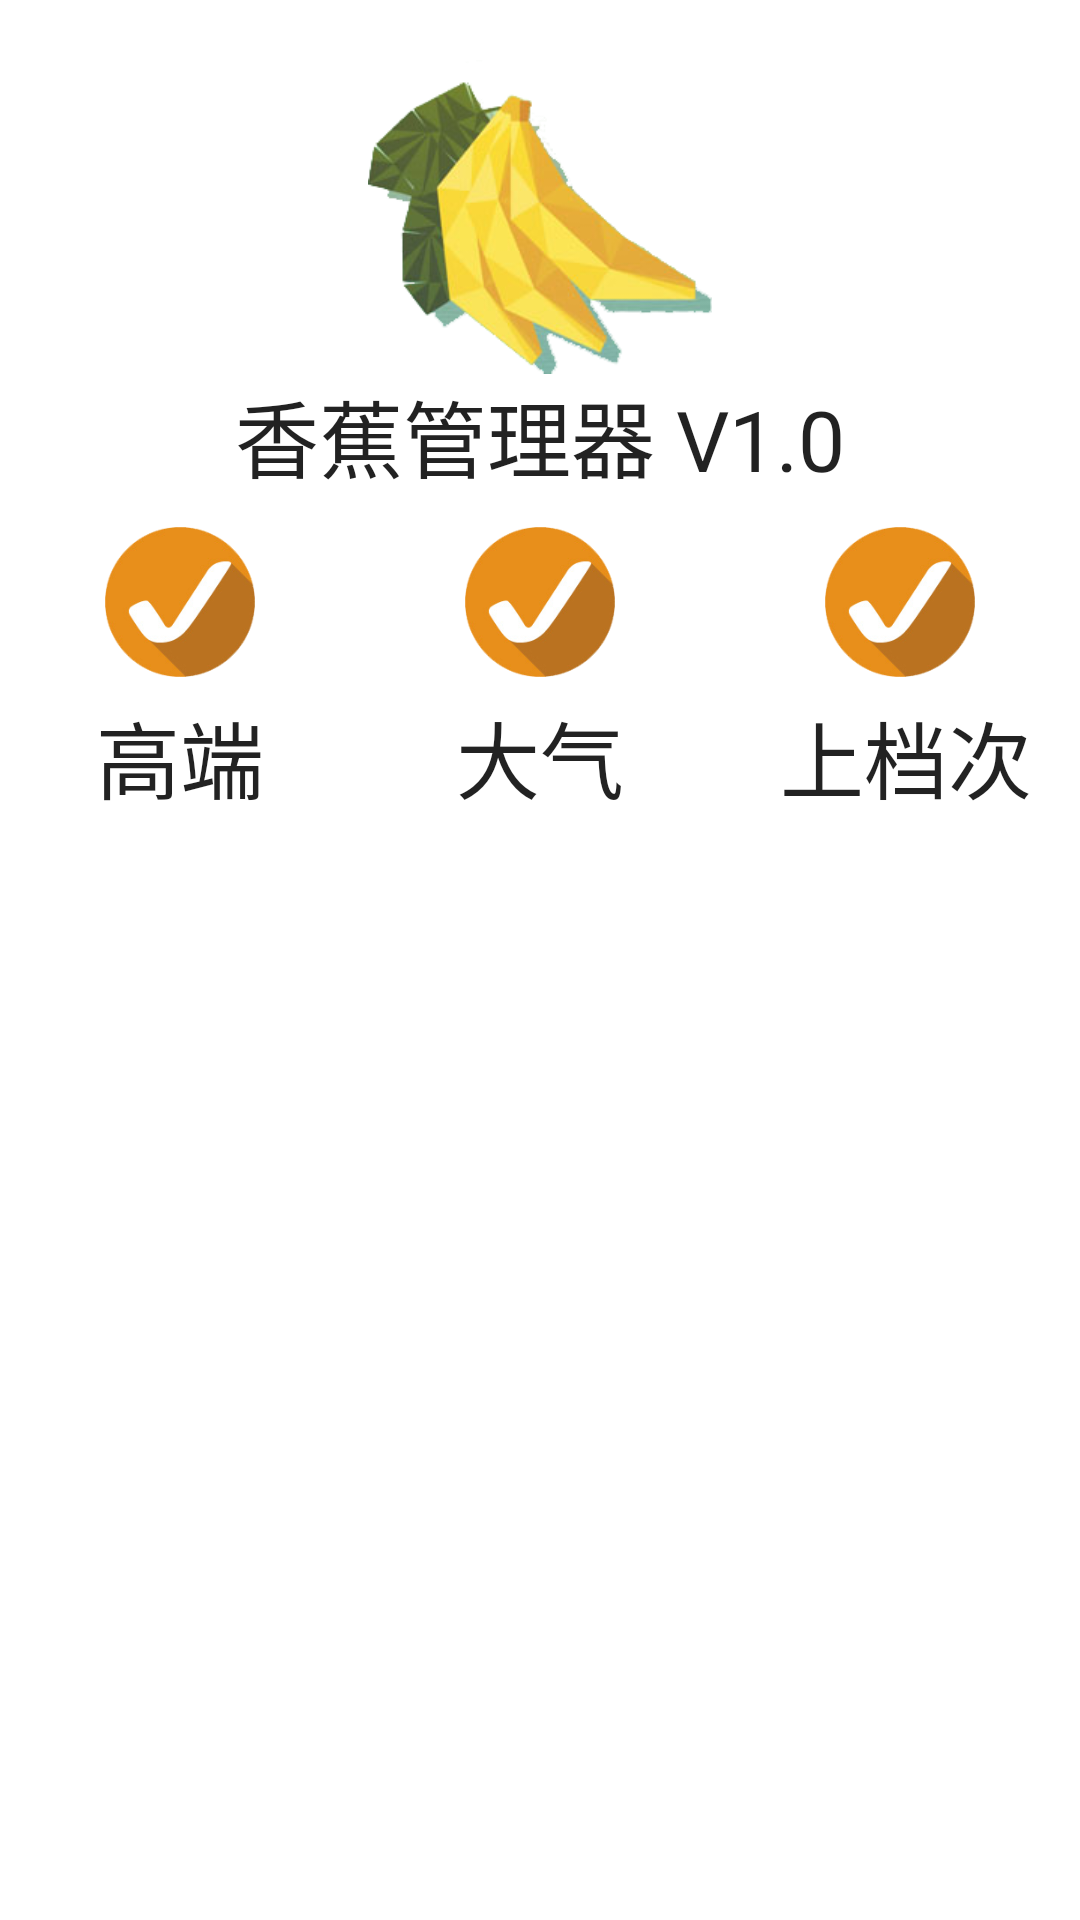

Icons on this 1080×1920 Android screen, each with its box as region(x1, y1, x2, y2):
right: region(105, 527, 255, 677), region(465, 527, 615, 677), region(825, 527, 975, 677)
